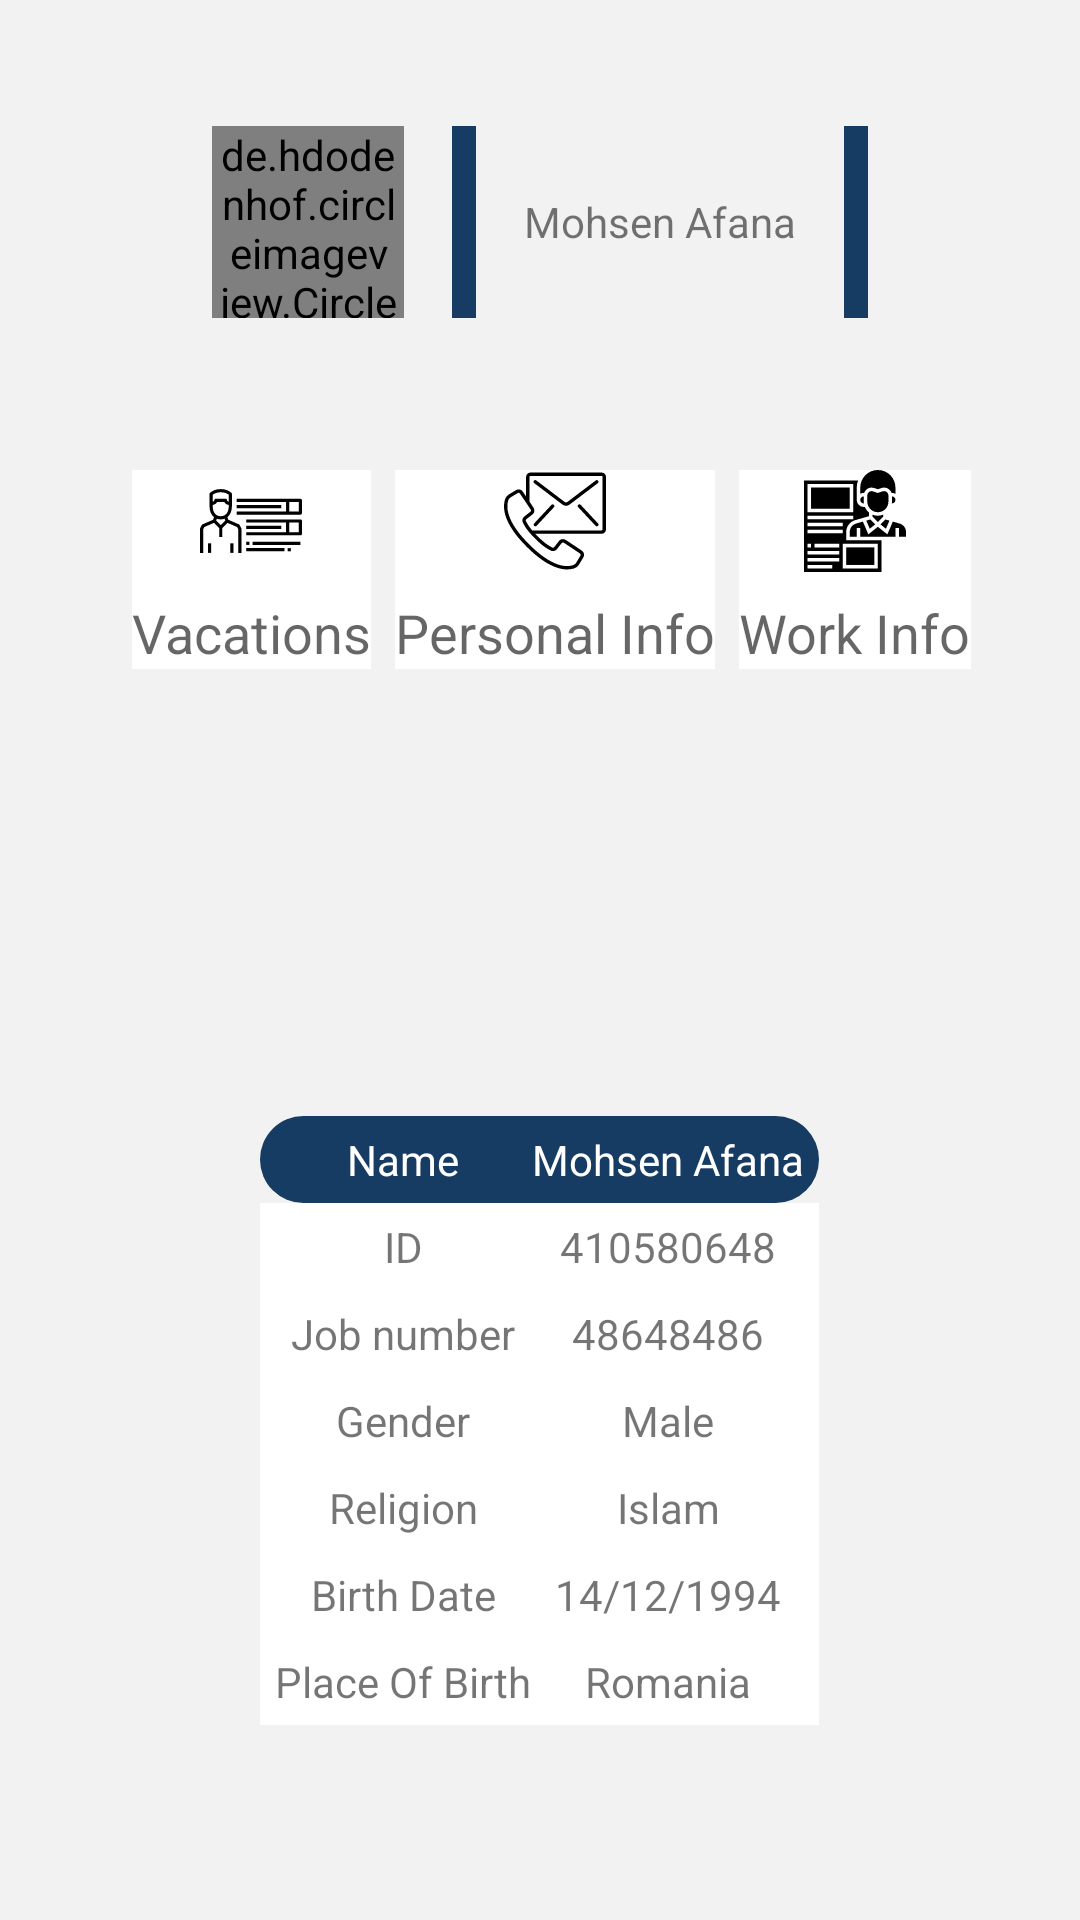

Icon bounding boxes for this 1080*1920 phone screenshot, format (x1=x1, y1=y1, x2=x2, y2=y2):
contact info: (x1=504, y1=472, x2=606, y2=570)
employee functional: (x1=200, y1=489, x2=302, y2=553)
employeedata: (x1=804, y1=470, x2=906, y2=572)
